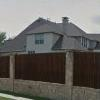Chimney: (56, 12, 76, 29)
